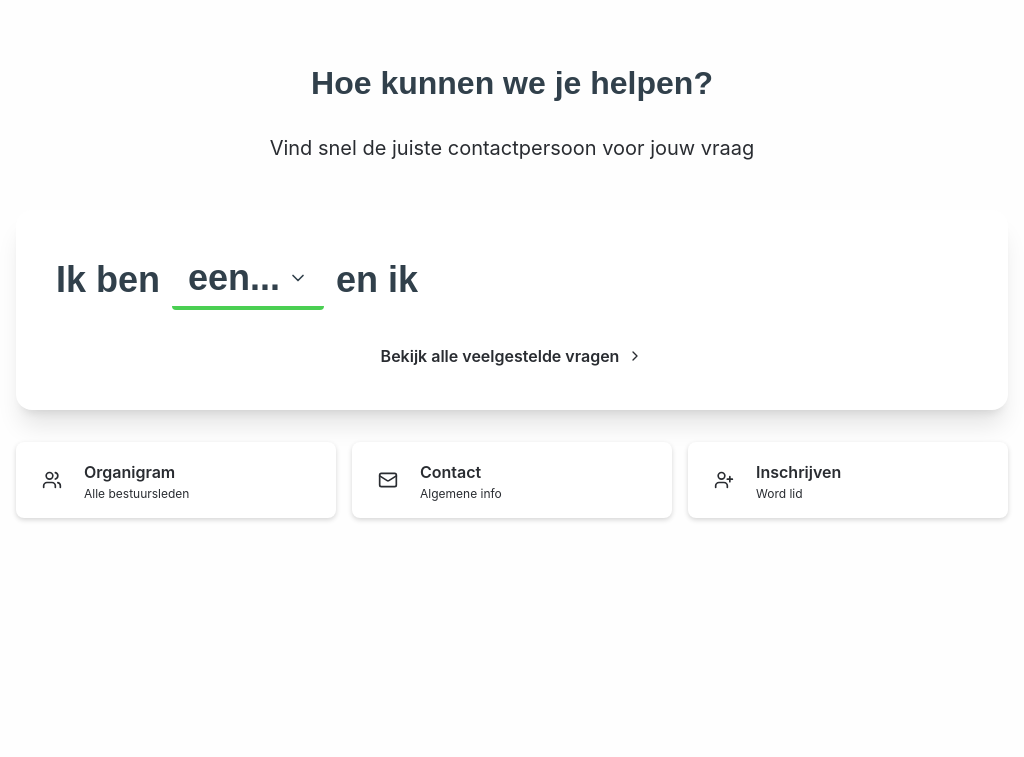
Scenario: ResponsibilityBlock › Interactive Elements › can interact with role dropdown
// Click the dropdown button to open the menu
Click the button "een...": (248, 280) [172,250,324,310]
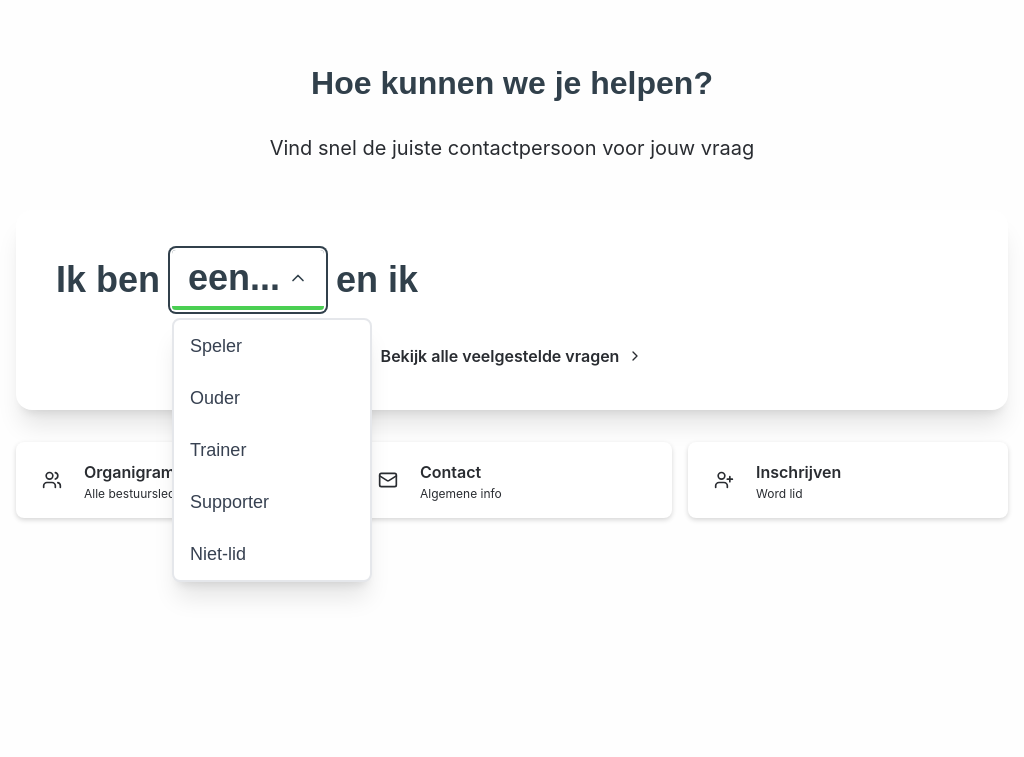
// Select speler from dropdown
Click the button "Speler": (272, 346) [174,320,370,372]
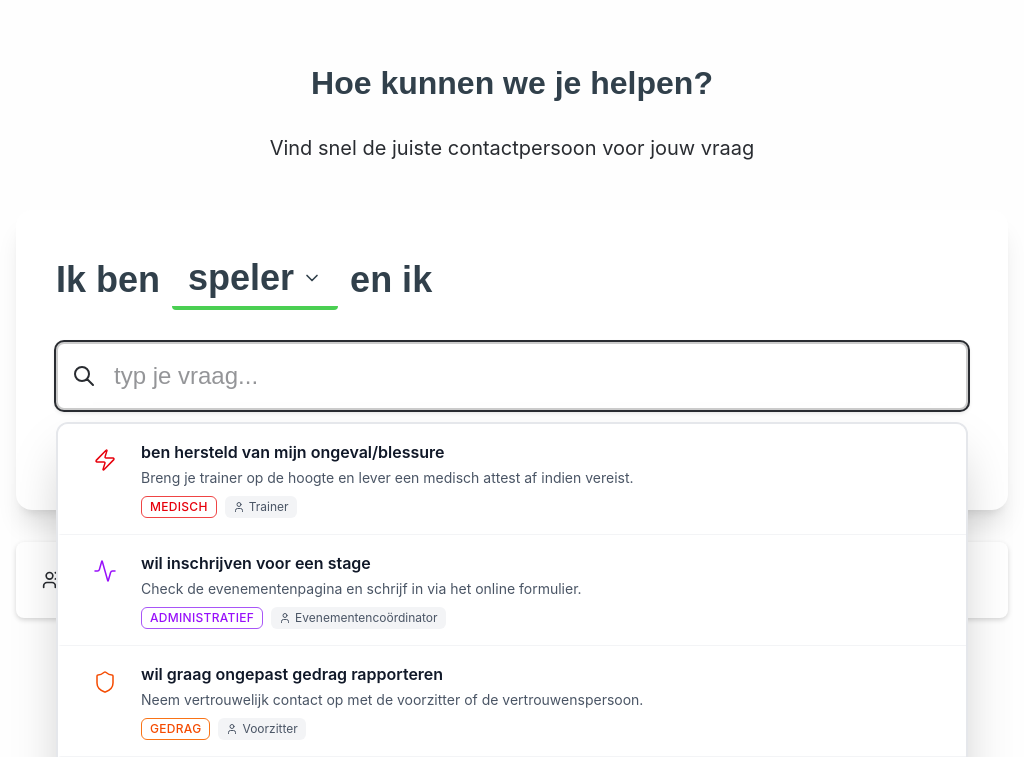
Expected: the button "speler" is shown, [172,250,338,310]
